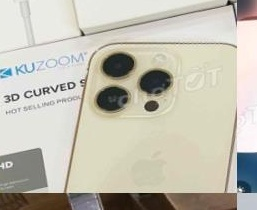scratch: (79, 193, 125, 210)
